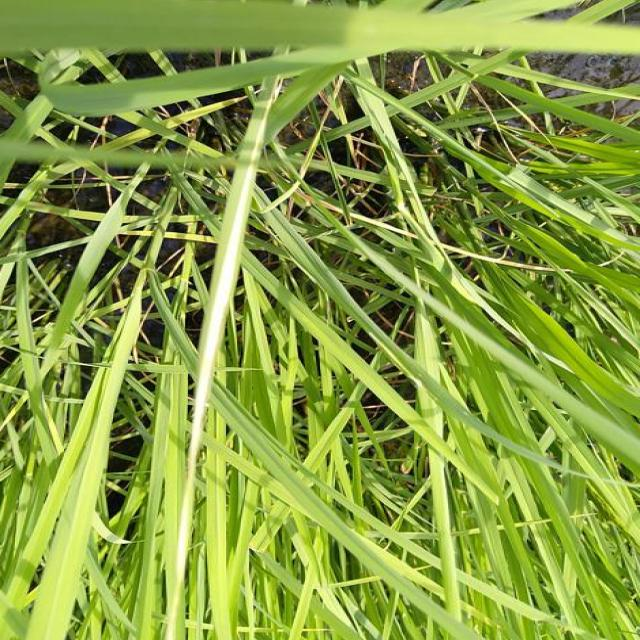Leaf Streak: (191, 164, 253, 433)
